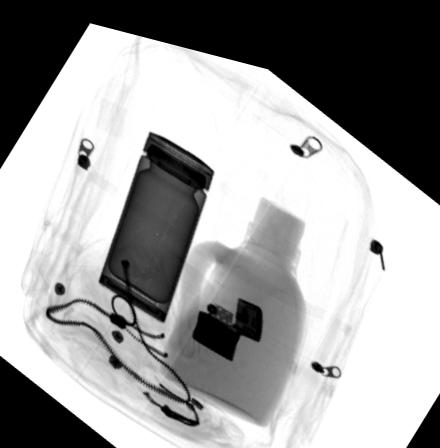Lighter: (190, 284, 262, 349)
